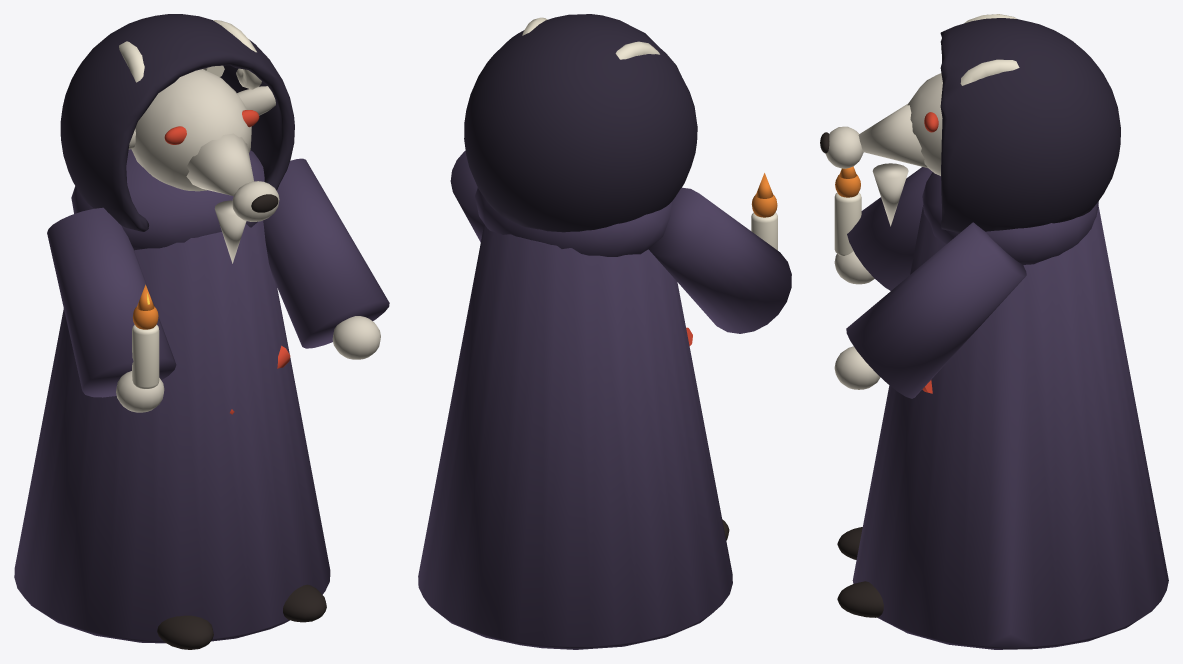
Rendered from Goat.fbx.
The picture shows the model from 3 angles, left to right: view 1: azimuth 30°, elevation 25°; view 2: azimuth 150°, elevation 25°; view 3: azimuth 270°, elevation 25°; orthographic projection.
Visible parts, largest first — view 1: Goat; view 2: Goat; view 3: Goat.
Boxes of the visible parts, x1=… form: Goat: x1=14, y1=14, x2=389, y2=649; Goat: x1=418, y1=14, x2=791, y2=649; Goat: x1=820, y1=14, x2=1168, y2=649.
Bounding box in the file's own units: 0.6383 × 1.13 × 0.6431.
